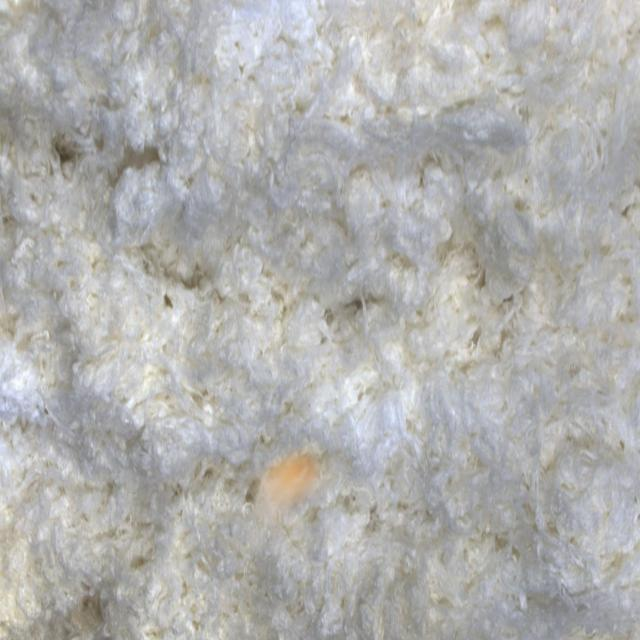dust: (246, 445, 337, 554)
